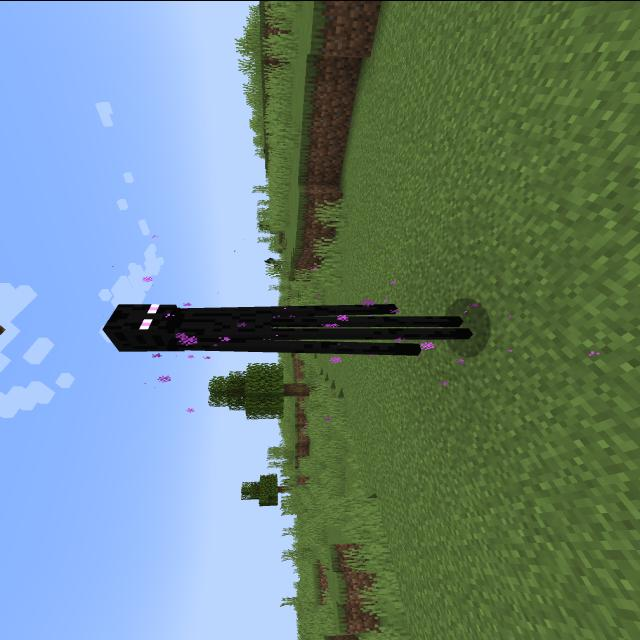Enderman: (87, 280, 497, 366)
